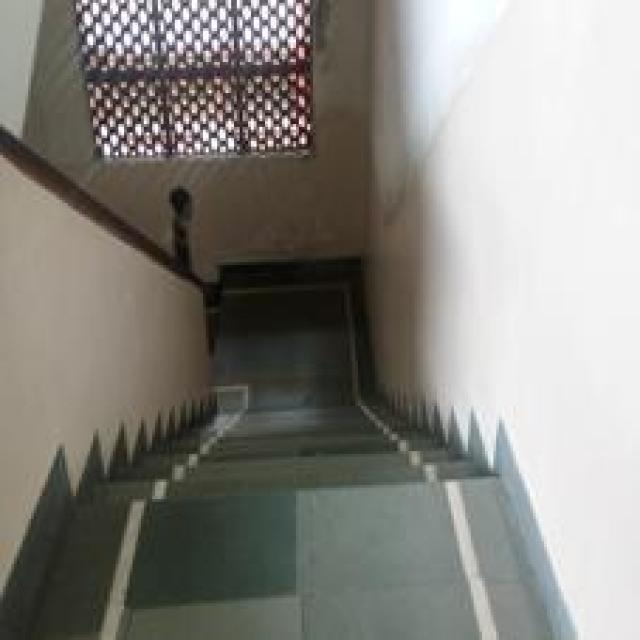downstair: (97, 382, 494, 551)
